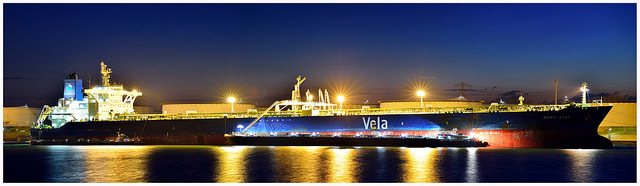tanker: (28, 66, 618, 147)
